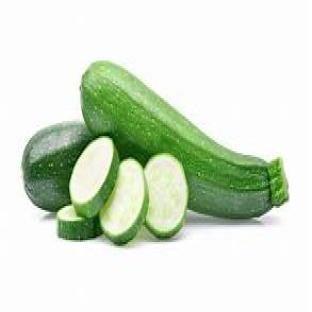Zucchini: (81, 61, 288, 219), (22, 122, 92, 211), (100, 159, 149, 243), (70, 137, 119, 217), (145, 154, 188, 238), (57, 205, 102, 240)
